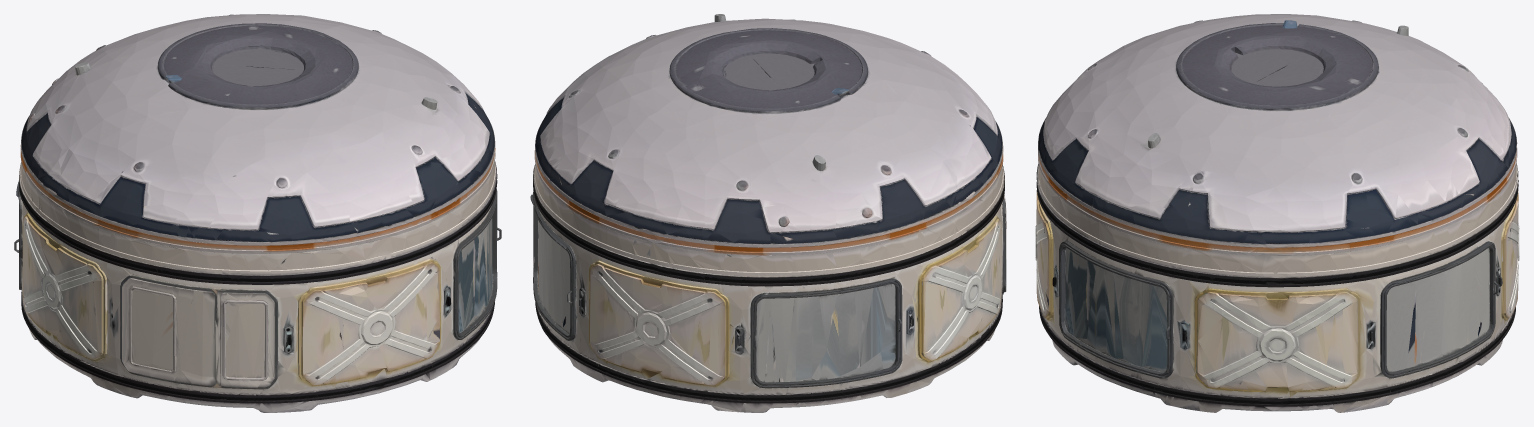
Rendered from refugio.obj.
3 renders of one model, left to right at view 1: azimuth 30°, elevation 25°; view 2: azimuth 150°, elevation 25°; view 3: azimuth 270°, elevation 25°, orthographic. The views are drawn at different scales.
Parts seen in each view (by area): view 1: refugio; view 2: refugio; view 3: refugio.
Part boxes in pixels (x1,y1,x2,y2): refugio: [14, 14, 501, 412]; refugio: [530, 14, 1006, 412]; refugio: [1035, 14, 1519, 412].
Size of the model in its own units: 0.9997 by 0.5855 by 0.9996.
Materials: 1 (1 with a texture image).
